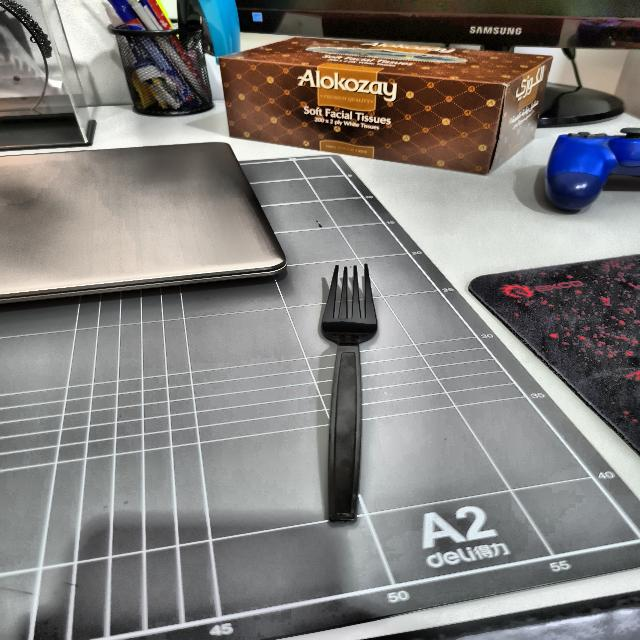plastic utensil: (318, 257, 379, 534)
